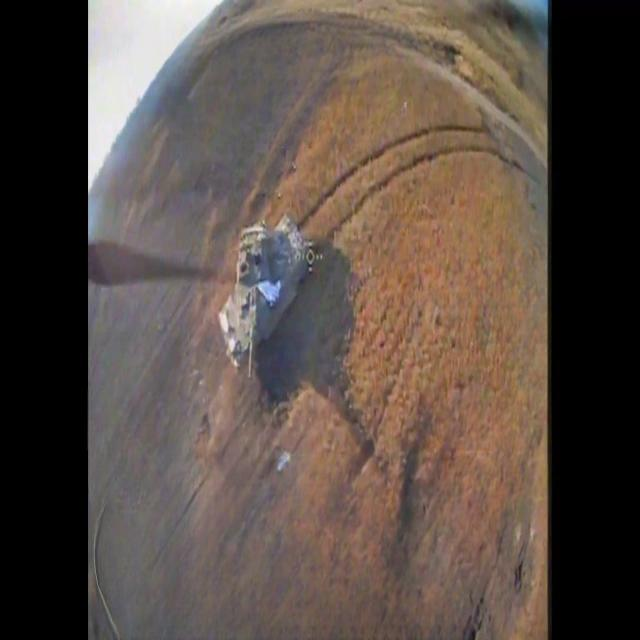MBT: (218, 215, 315, 384)
